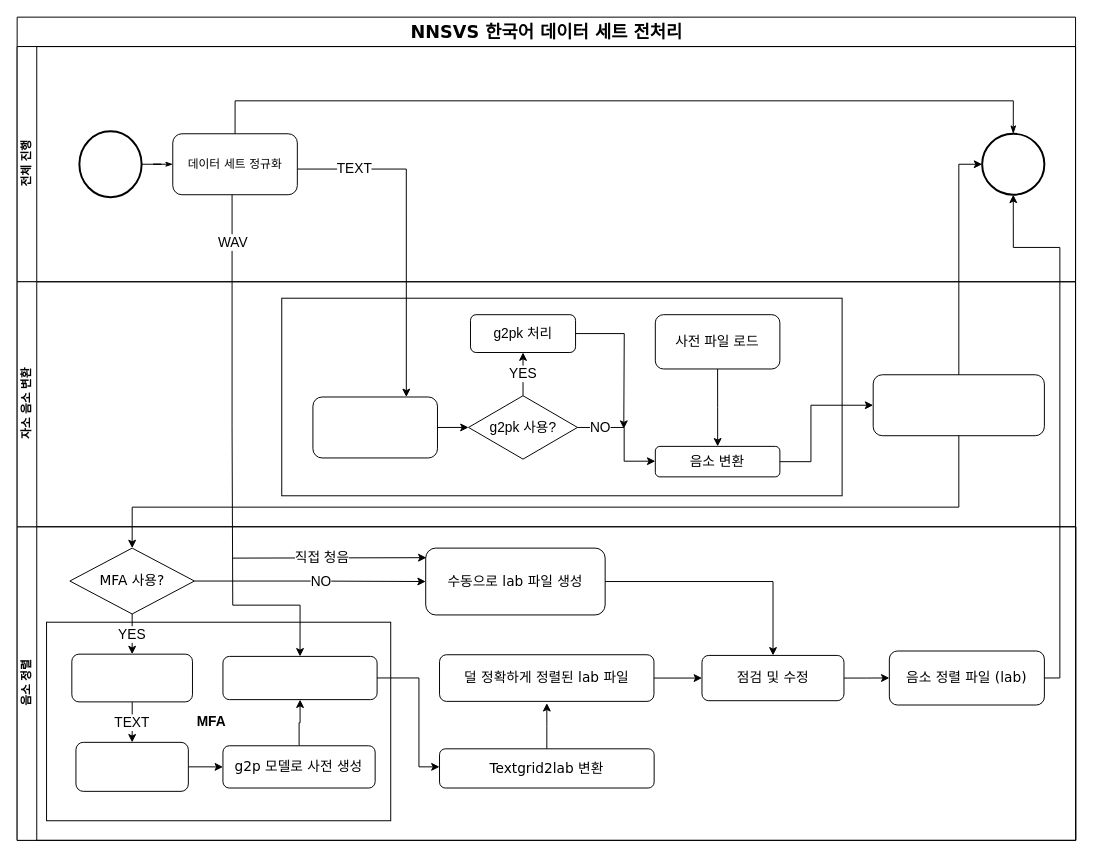
Image size: 1094x858. Some labels were removed from this diagram. Each missing label, with the box of its shape:
"파일명_phn"으로 저장: (872, 374, 1044, 436)
g2p 모델 학습: (75, 741, 188, 791)
g2p4utau: (281, 297, 842, 496)
시작: (78, 130, 142, 198)
완료: (981, 132, 1045, 195)
음향모델 학습 및 추론: (222, 655, 377, 700)
전처리: (71, 653, 192, 702)
특수문자 필터링: (312, 396, 437, 458)
